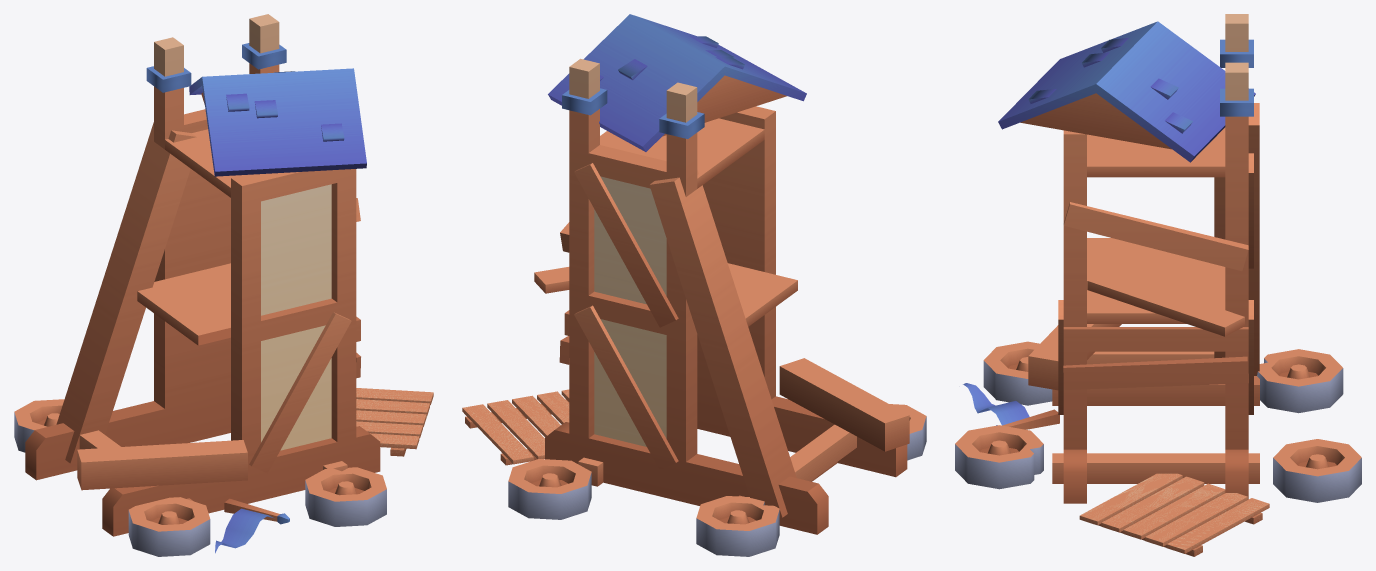
The model's file is siege-tower-demolished.obj.
The picture shows the model from 3 angles, left to right: view 1: azimuth 30°, elevation 25°; view 2: azimuth 150°, elevation 25°; view 3: azimuth 270°, elevation 25°; orthographic projection. The views are drawn at different scales.
Parts seen in each view (by area): view 1: siege-tower-demolished; view 2: siege-tower-demolished; view 3: siege-tower-demolished.
Boxes of the visible parts, bbox=[...] form: siege-tower-demolished: bbox=[14, 14, 433, 556]; siege-tower-demolished: bbox=[462, 14, 926, 556]; siege-tower-demolished: bbox=[955, 14, 1361, 556].
Size of the model in its own units: 2.17 by 2.1 by 1.85.
1 material, 1 textured.
